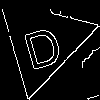D: (18, 16, 66, 71)
